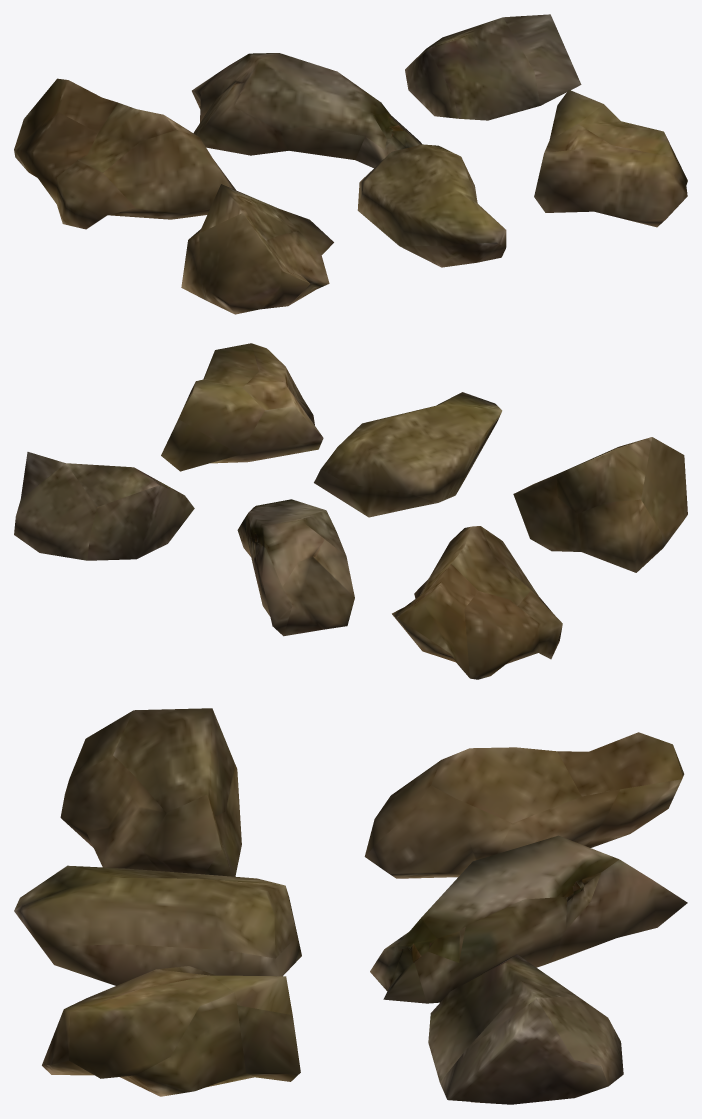
File: rock_moss_set_01_lod.glb
3 renders of one model, top to bottom at view 1: azimuth 30°, elevation 25°; view 2: azimuth 150°, elevation 25°; view 3: azimuth 270°, elevation 25°, orthographic. The views are drawn at different scales.
Visible parts, largest first — view 1: rock_moss_set_01_rock01; view 2: rock_moss_set_01_rock01; view 3: rock_moss_set_01_rock01.
Part boxes in pixels (x1=…): rock_moss_set_01_rock01: x1=14, y1=14, x2=687, y2=314; rock_moss_set_01_rock01: x1=14, y1=343, x2=687, y2=679; rock_moss_set_01_rock01: x1=14, y1=708, x2=687, y2=1104.
Size of the model in its own units: 7.91 by 1.63 by 6.89.
1 material, 1 textured.
